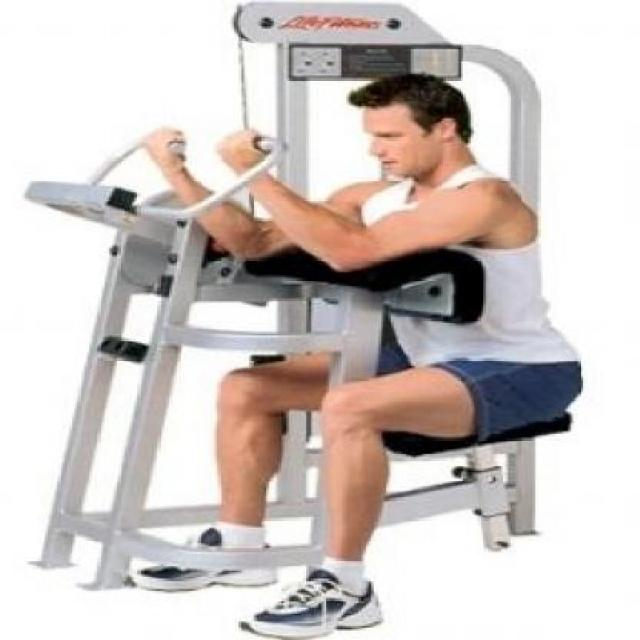arm curl machine: (21, 134, 574, 591)
